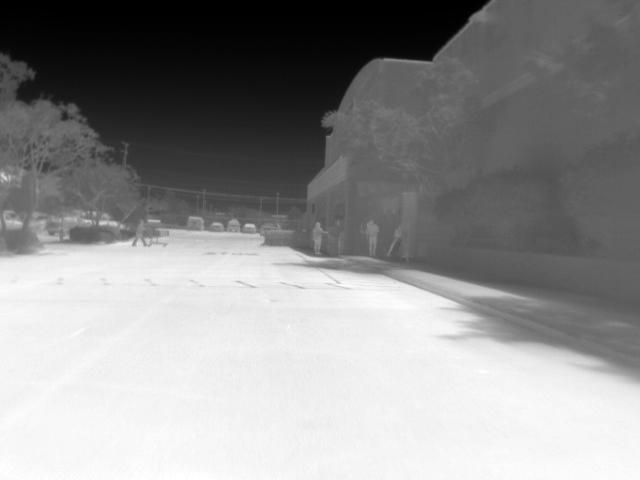car: (45, 215, 77, 236), (258, 221, 281, 237), (185, 214, 205, 230), (222, 218, 241, 234), (240, 220, 256, 234), (209, 220, 224, 232)
person: (310, 219, 330, 256), (362, 218, 380, 259), (385, 225, 403, 255), (130, 220, 148, 248)
